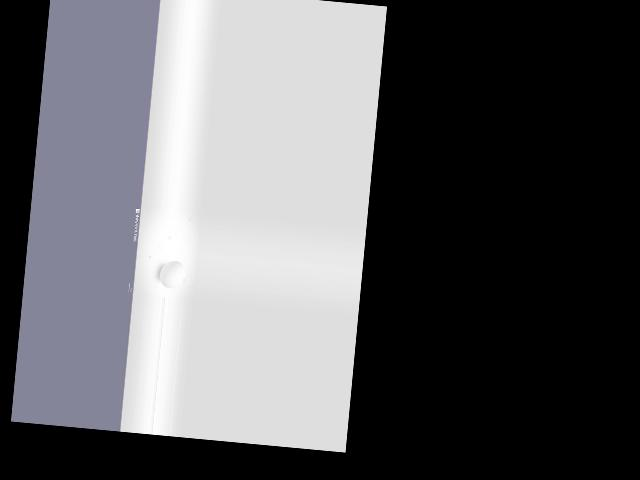egg: (158, 260, 185, 290)
